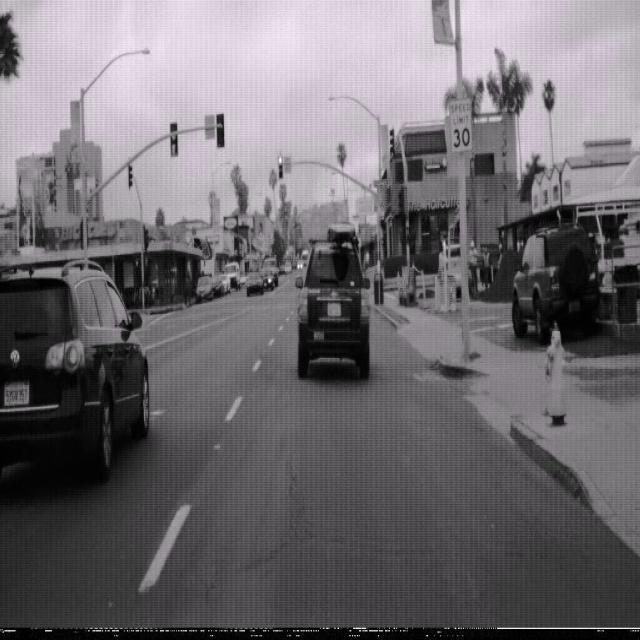speedLimit30: (448, 96, 473, 154)
